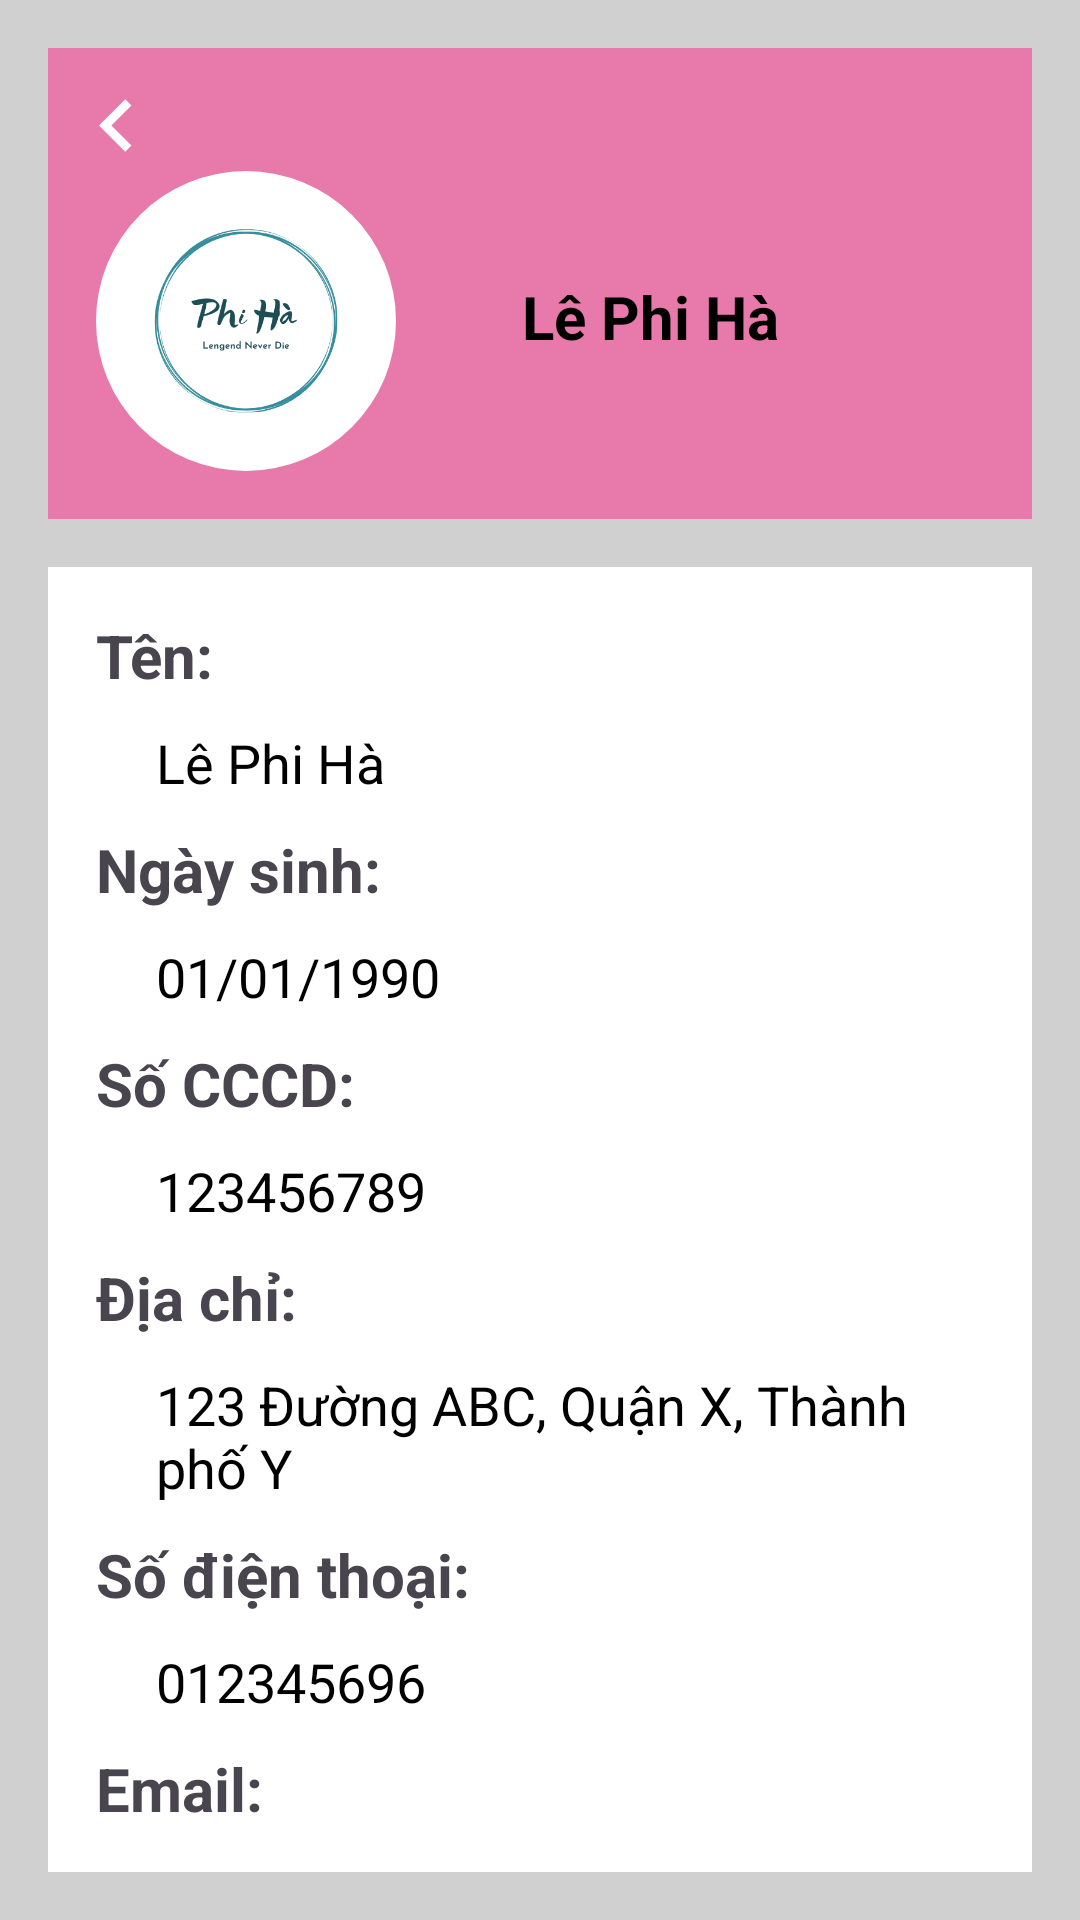

Icons on this 1080×1920 Android screen, each with its box as rect(x1, y1, x2, y2):
avatar: rect(96, 171, 396, 471)
Back: rect(99, 99, 131, 152)
